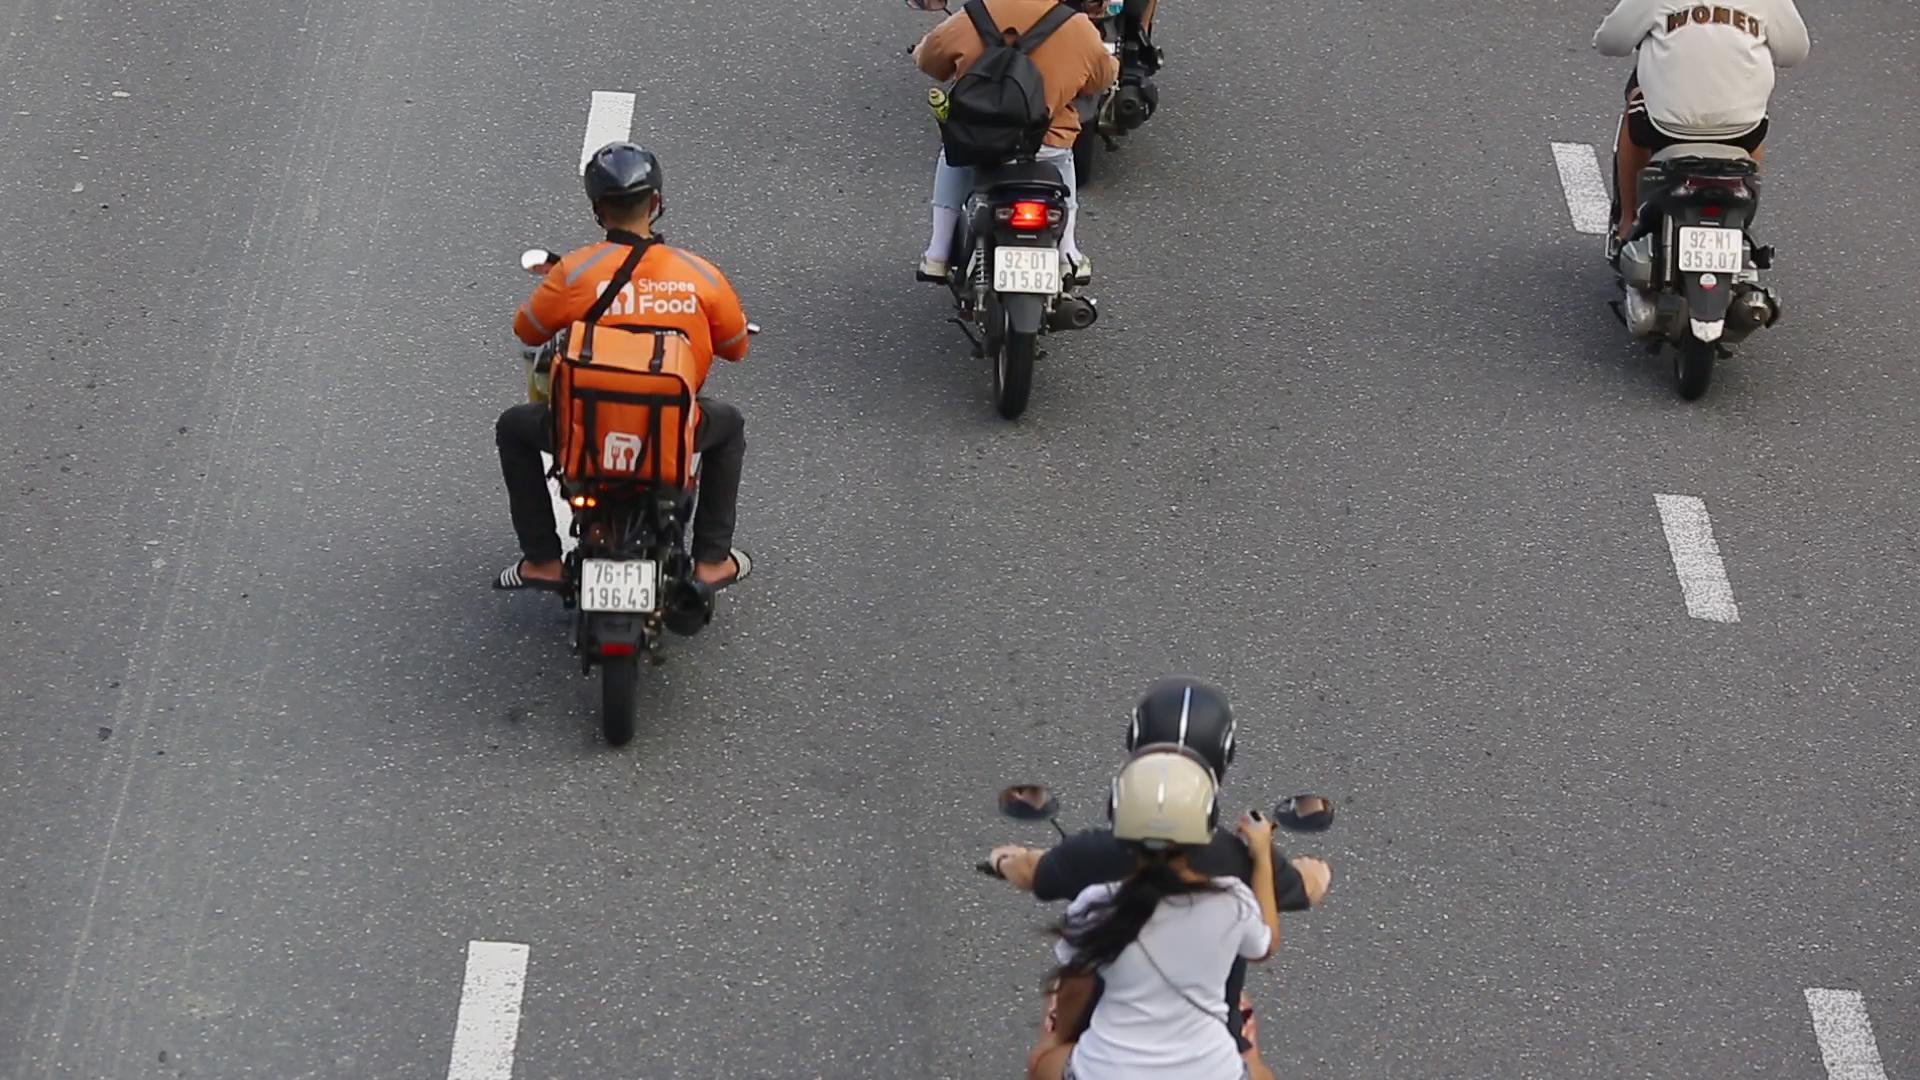motobike: (477, 124, 769, 761)
